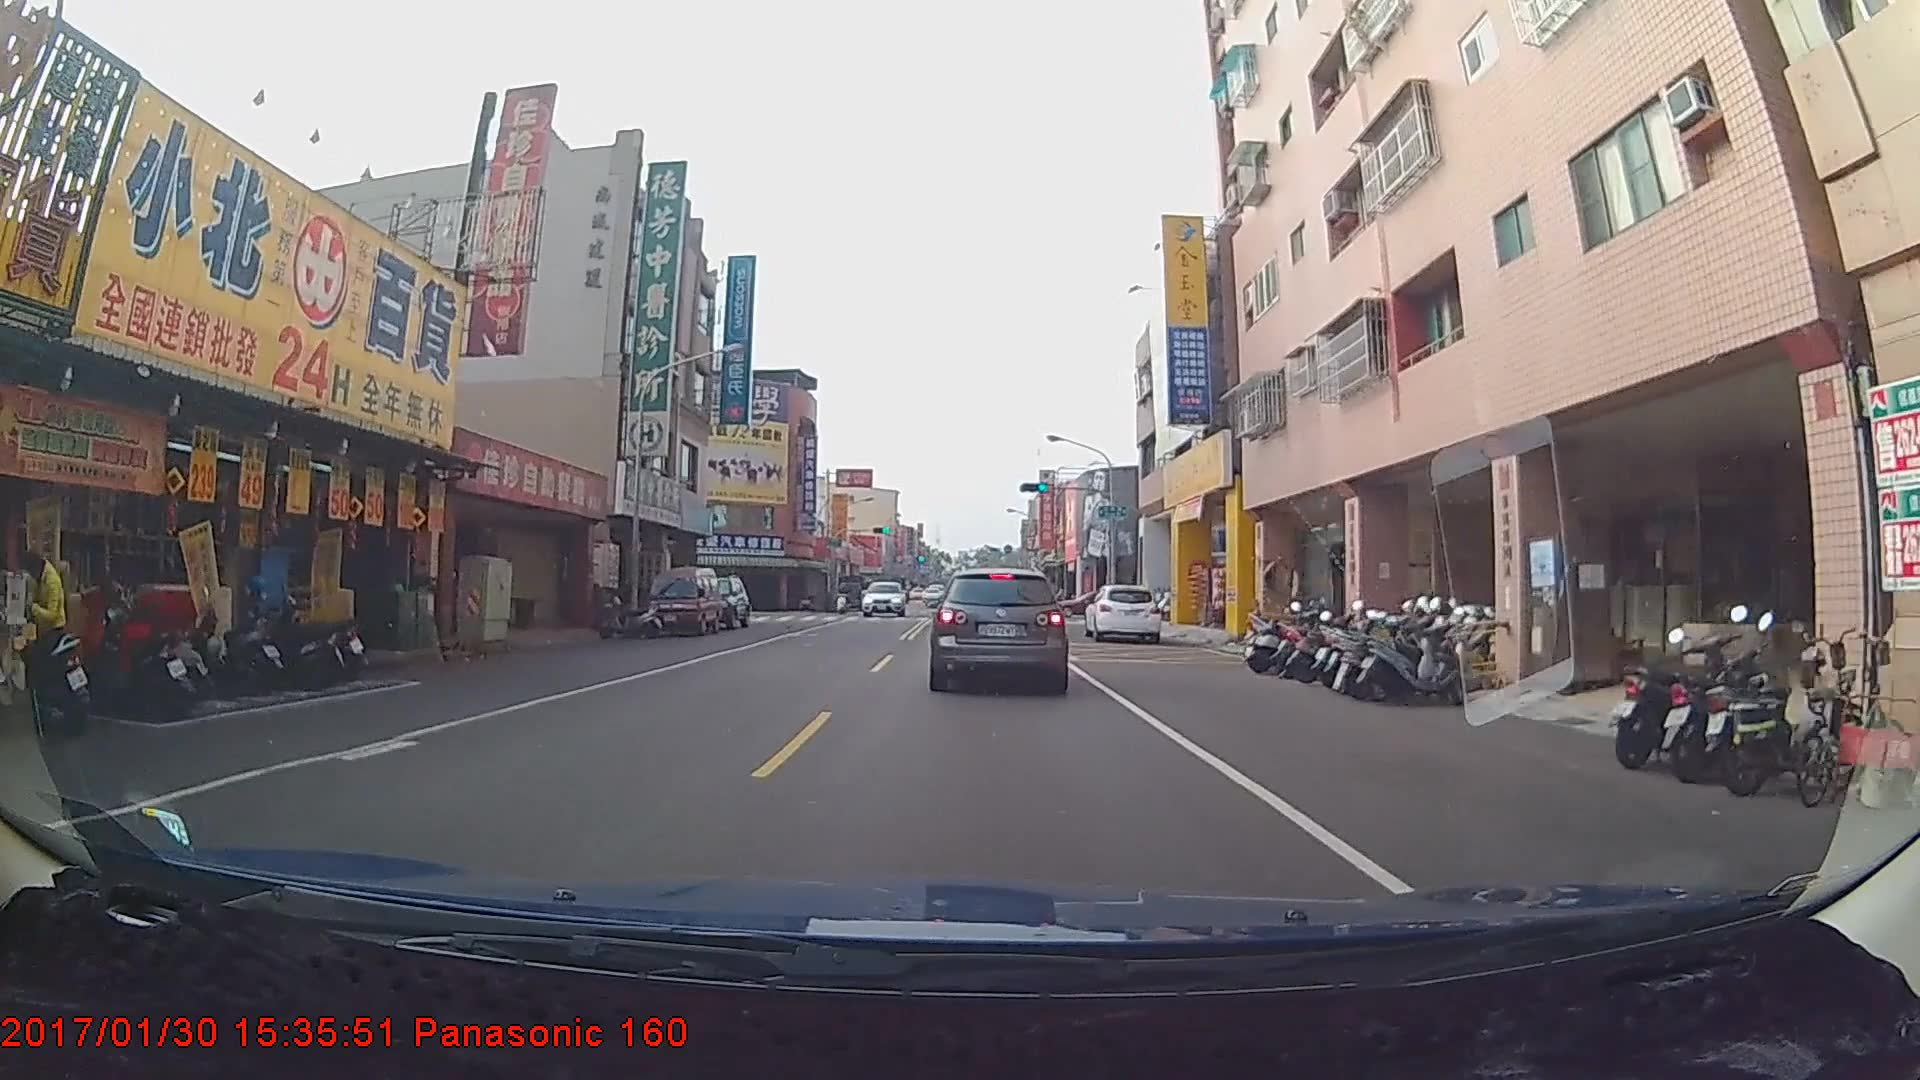pedestrian: (20, 543, 71, 731)
vehicle: (930, 564, 1068, 690), (642, 567, 722, 636), (1083, 583, 1162, 644), (685, 572, 751, 628), (860, 575, 895, 606)
